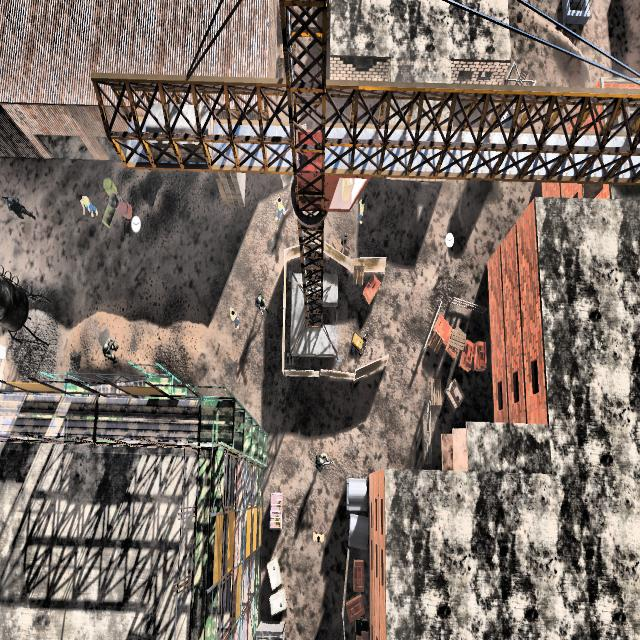bad: (6, 184, 34, 238), (308, 444, 333, 484), (100, 328, 122, 370), (250, 285, 274, 318)
good: (70, 186, 98, 224), (224, 294, 243, 342), (273, 187, 288, 228), (355, 191, 369, 231), (307, 527, 327, 550)
